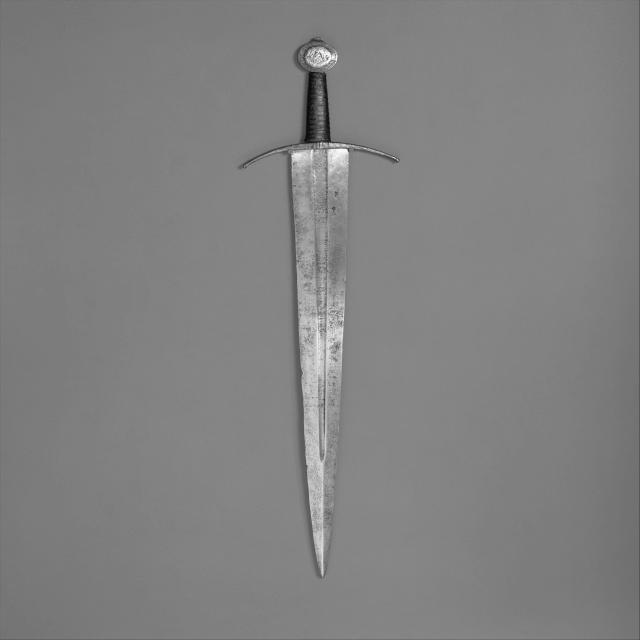Knife: (190, 18, 448, 596)
